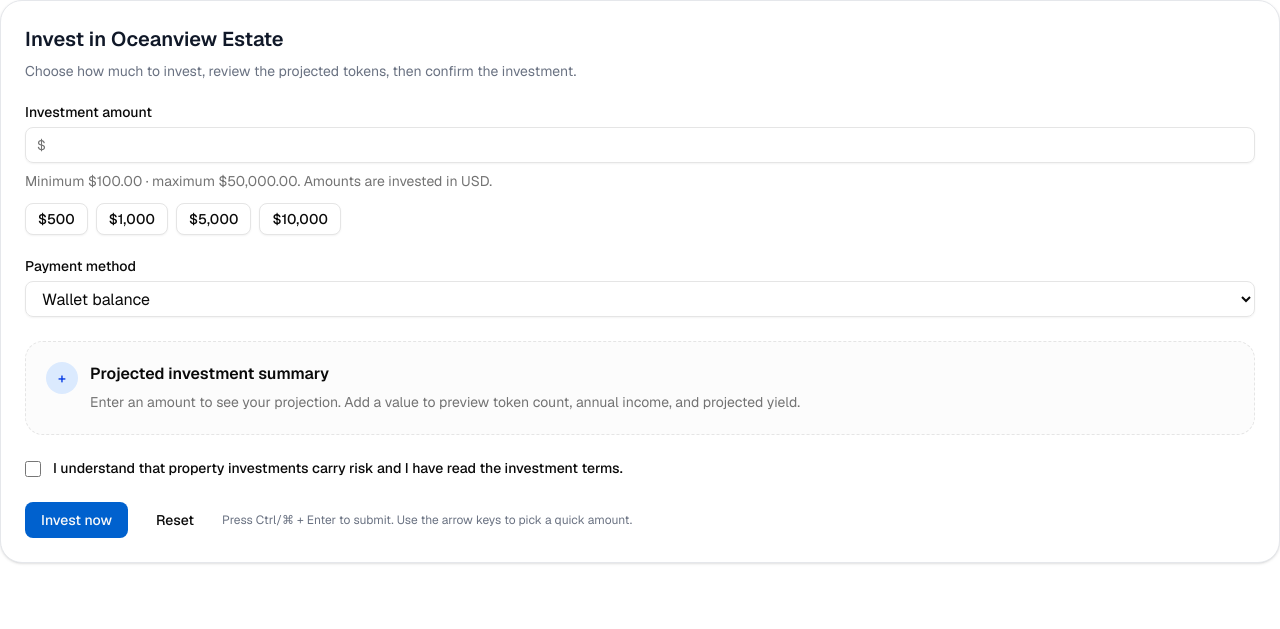
InvestmentForm › requires the risk acknowledgement before submitting
Step 1. Type "500" into the number field labelled "Investment amount" → (640, 145), box left=25, top=127, right=1255, bottom=163
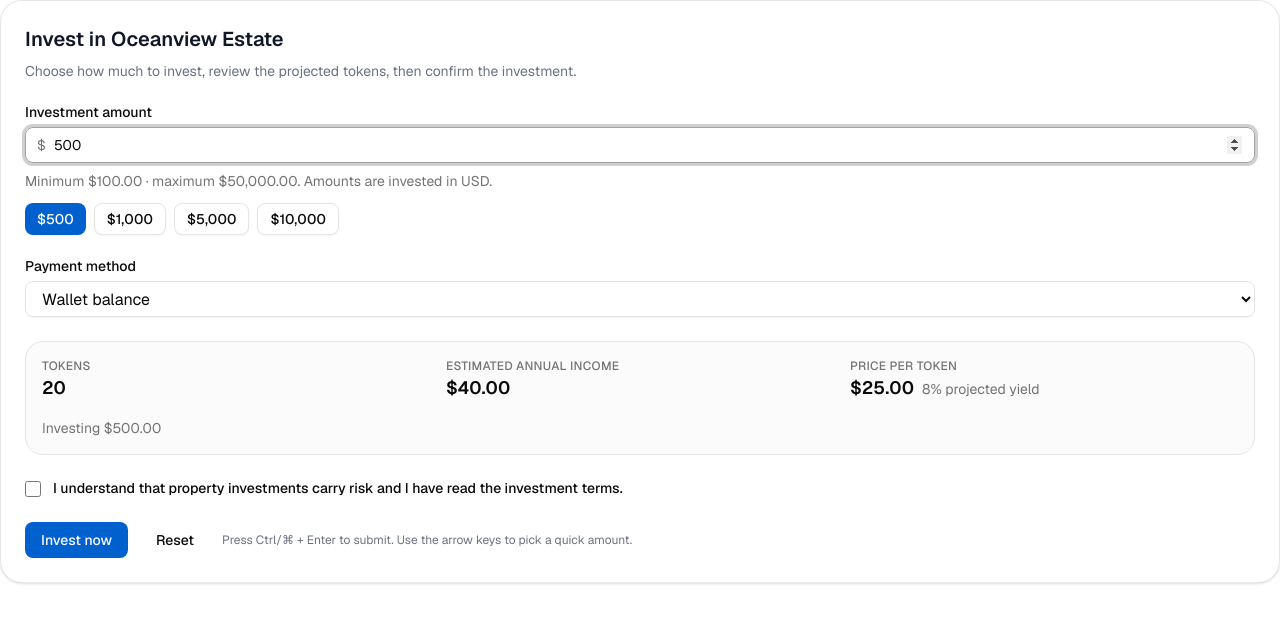
Step 2. Click the button "Invest now" → (76, 540), box left=25, top=522, right=128, bottom=558
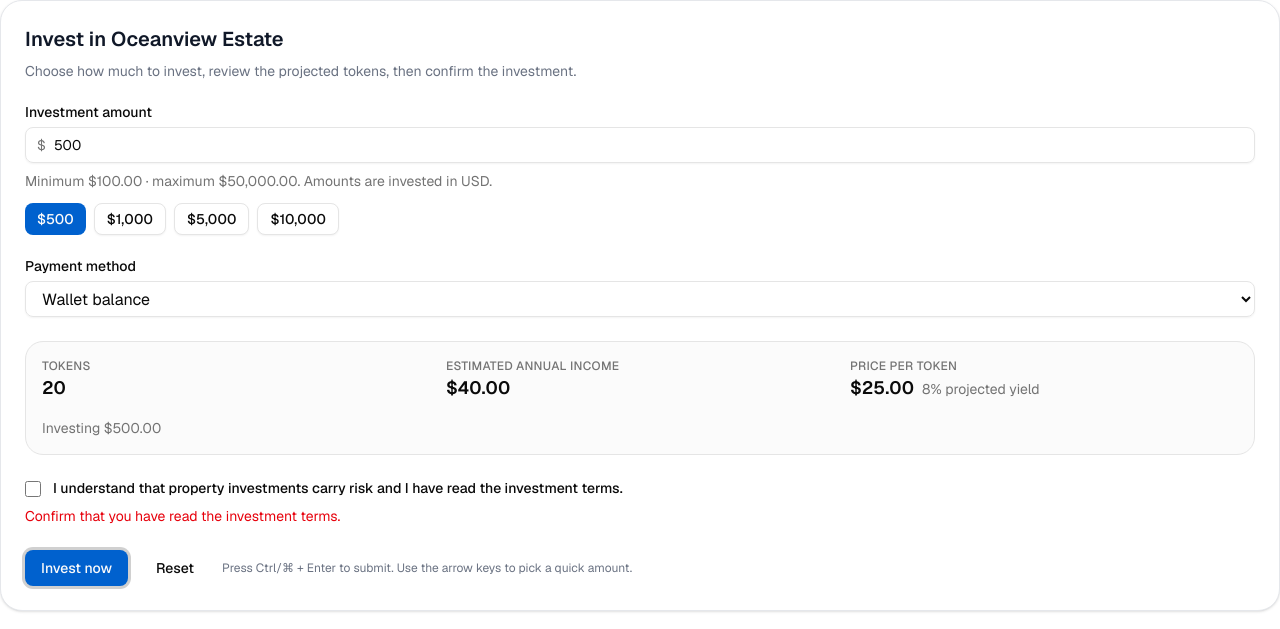
expect the message reads "Confirm that you have read the investment terms.": met, box left=25, top=507, right=340, bottom=525
